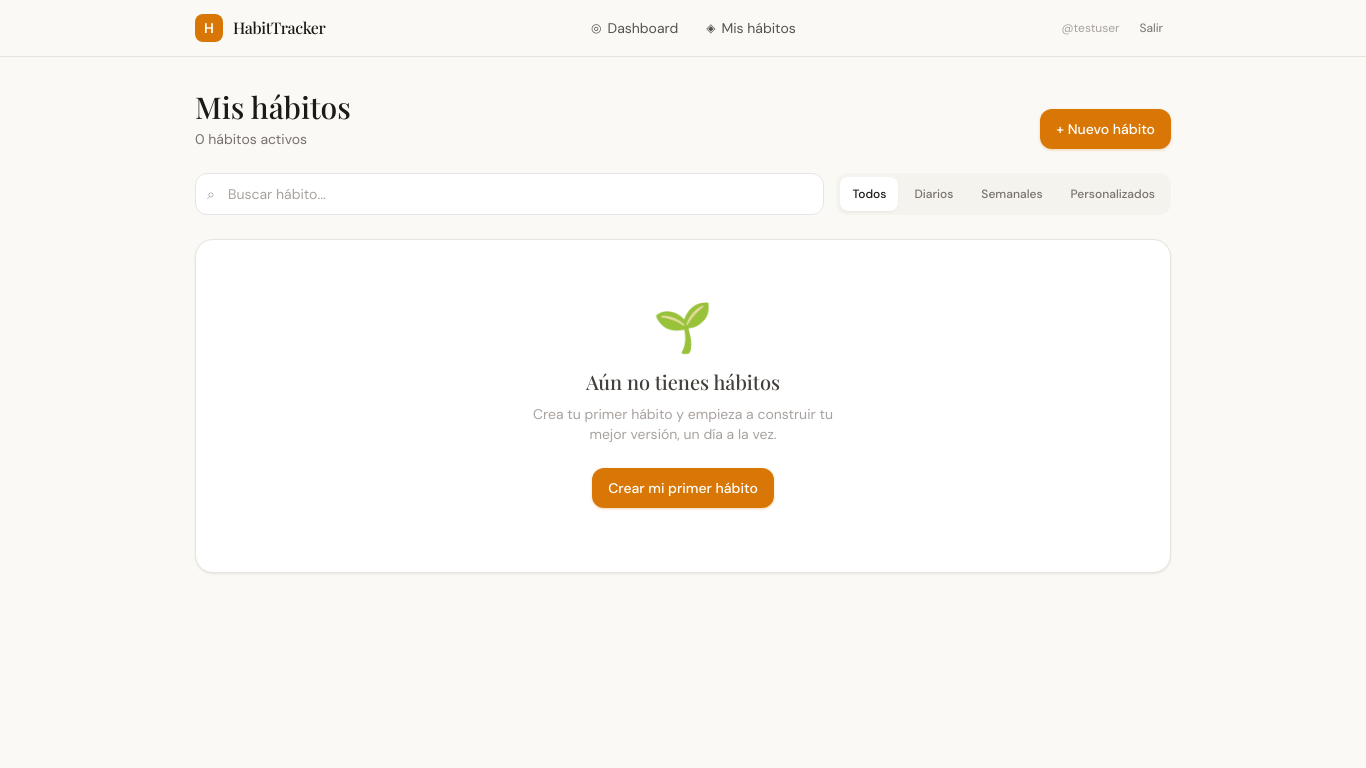
Test: HabitsPage — estado vacío › el botón "Crear mi primer hábito" abre el modal
Click the button "Crear mi primer hábito" at (683, 488), box [592,468,774,508]
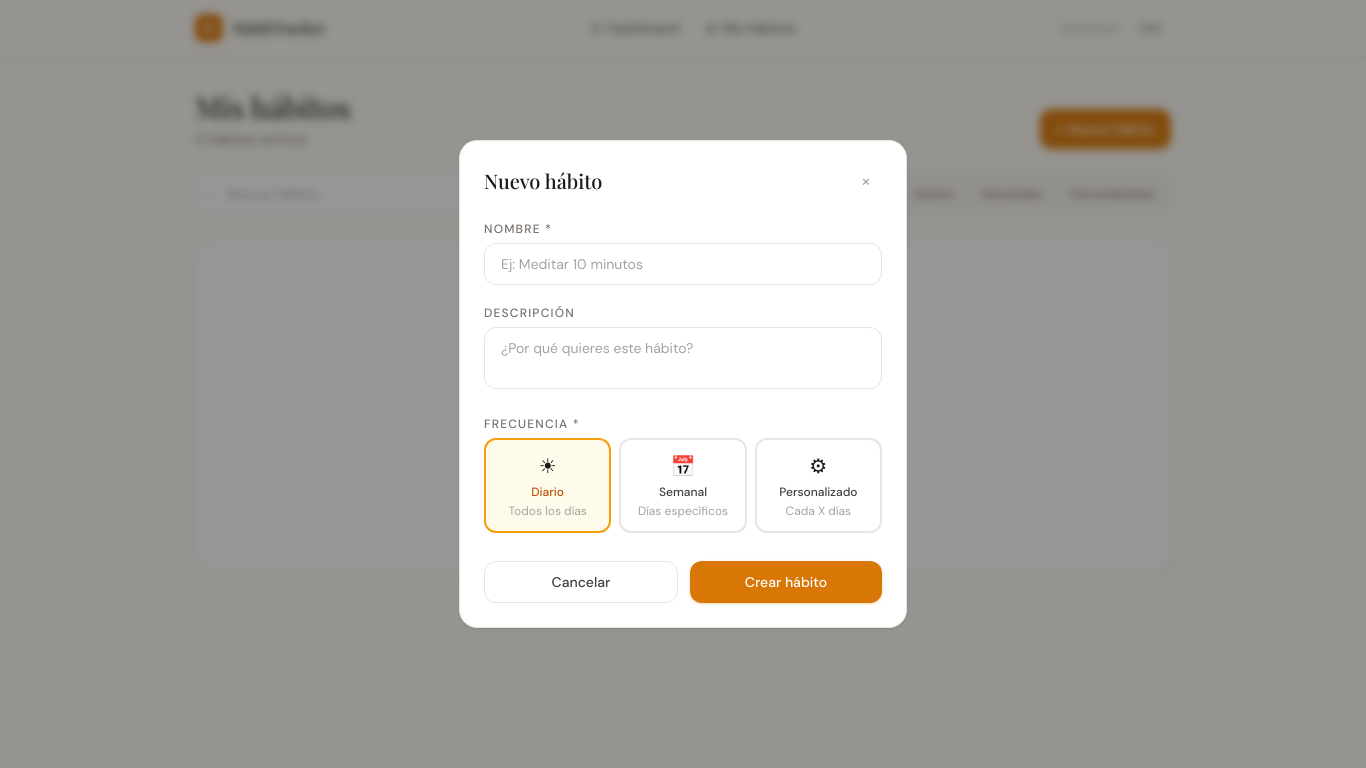
Result: the heading "Nuevo hábito" is shown at [484,167,602,195]
